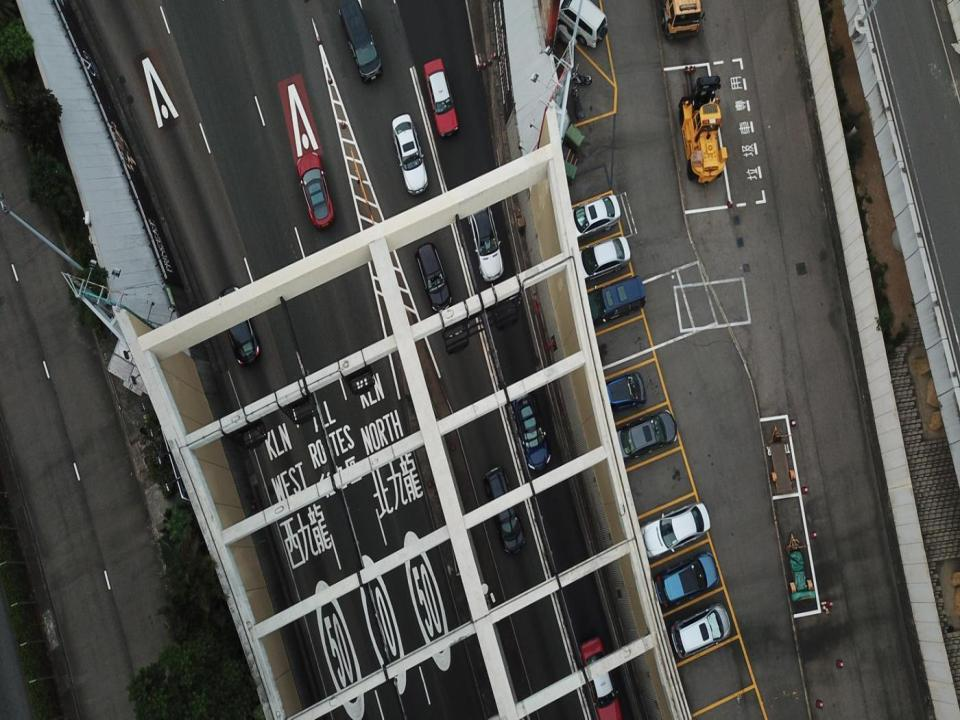car: (638, 502, 710, 557), (581, 634, 621, 719), (510, 386, 550, 470), (216, 286, 258, 365), (612, 410, 676, 461), (466, 199, 502, 281), (296, 152, 334, 228), (392, 112, 427, 194), (422, 57, 457, 136), (564, 193, 620, 236), (573, 236, 630, 278), (593, 373, 646, 414)
van: (652, 552, 719, 609), (484, 466, 526, 555), (339, 1, 381, 83), (580, 275, 644, 324), (671, 604, 730, 657), (552, 1, 608, 49), (417, 242, 452, 314)
